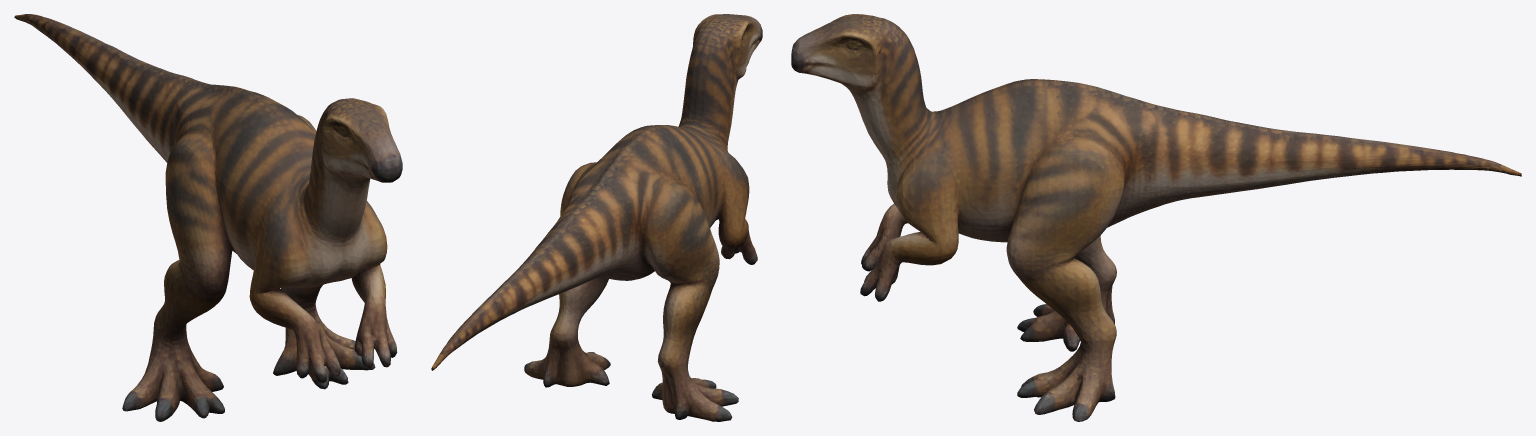
The picture shows the model from 3 angles, left to right: view 1: azimuth 30°, elevation 25°; view 2: azimuth 150°, elevation 25°; view 3: azimuth 270°, elevation 25°; orthographic projection. The views are drawn at different scales.
Visible parts, largest first — view 1: world; view 2: world; view 3: world.
Part boxes in pixels (left/top/right/bottom): world: left=14, top=14, right=402, bottom=421; world: left=431, top=14, right=762, bottom=421; world: left=791, top=14, right=1521, bottom=421.
Bounding box in the file's own units: 1.86 × 2.63 × 5.
1 material, 1 textured.
